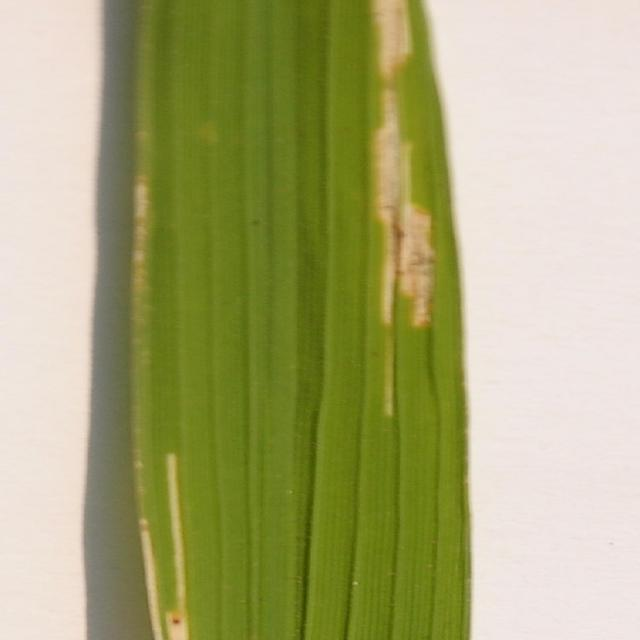leaf blight: (343, 1, 448, 325), (132, 424, 215, 639)
